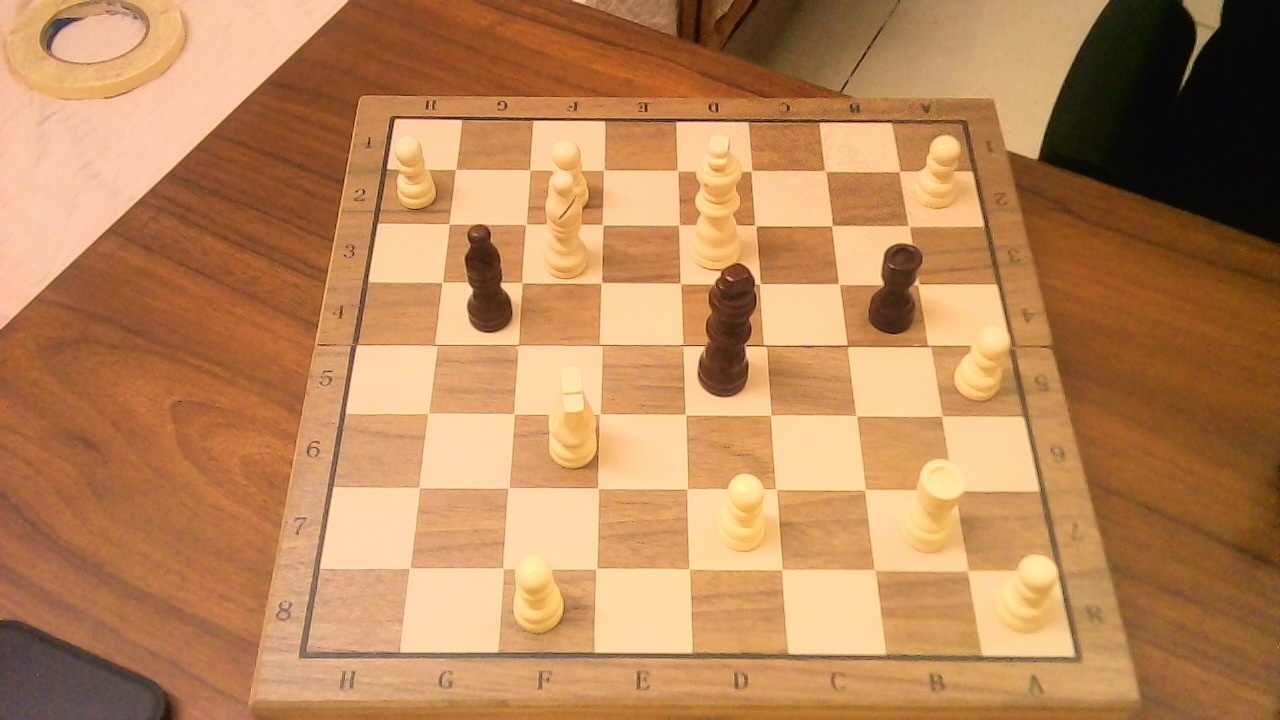B: (532, 160, 596, 281)
K: (684, 123, 753, 274)
N: (527, 385, 600, 472)
P: (989, 544, 1068, 637), (505, 543, 572, 638), (706, 464, 774, 557), (948, 316, 1018, 404), (909, 126, 970, 212), (386, 127, 442, 211), (540, 132, 594, 212)
R: (892, 448, 973, 560)
b: (453, 210, 520, 336)
k: (691, 250, 770, 402)
r: (861, 230, 931, 338)
